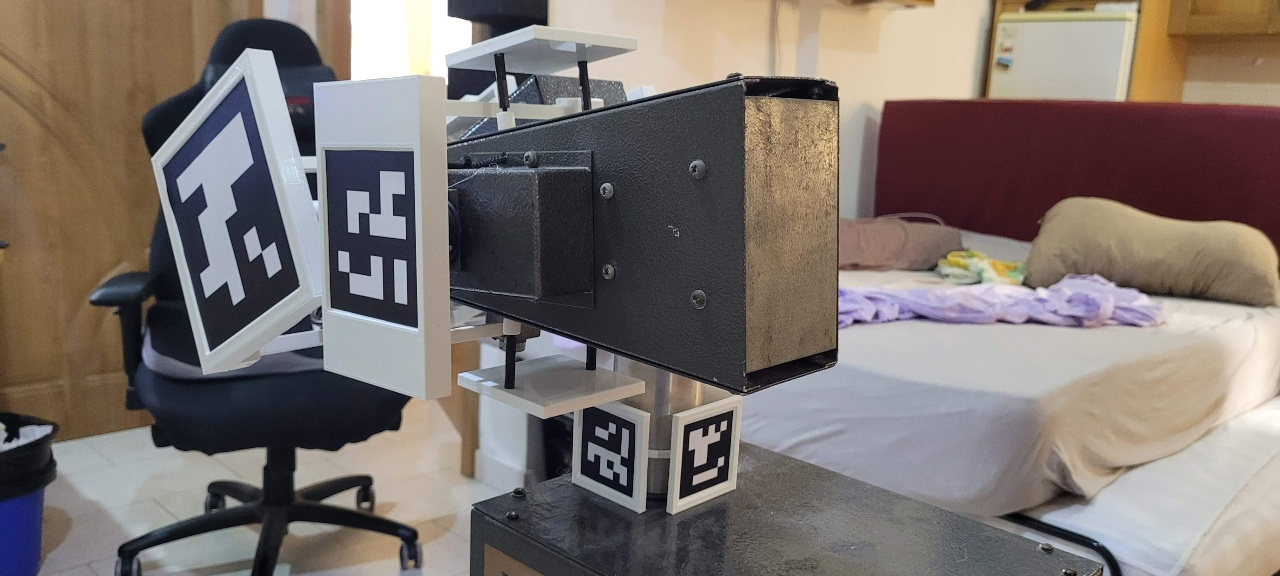Robot: (193, 32, 986, 576)
